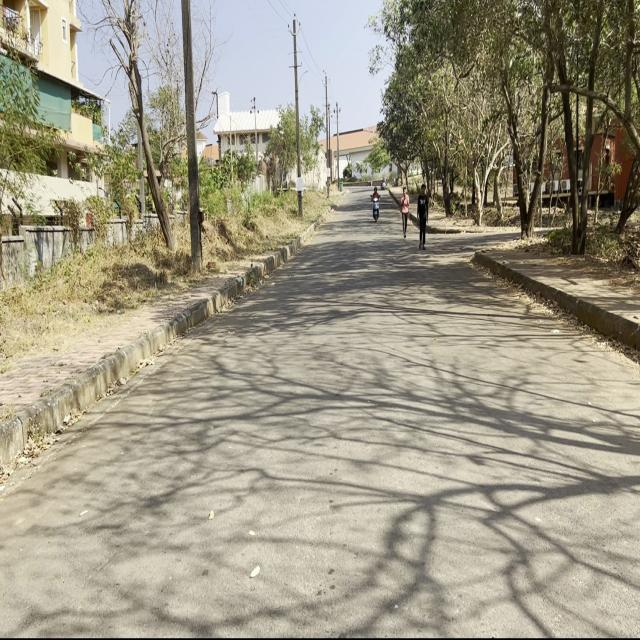Object: (368, 187, 382, 223)
Road: (1, 184, 637, 631)
